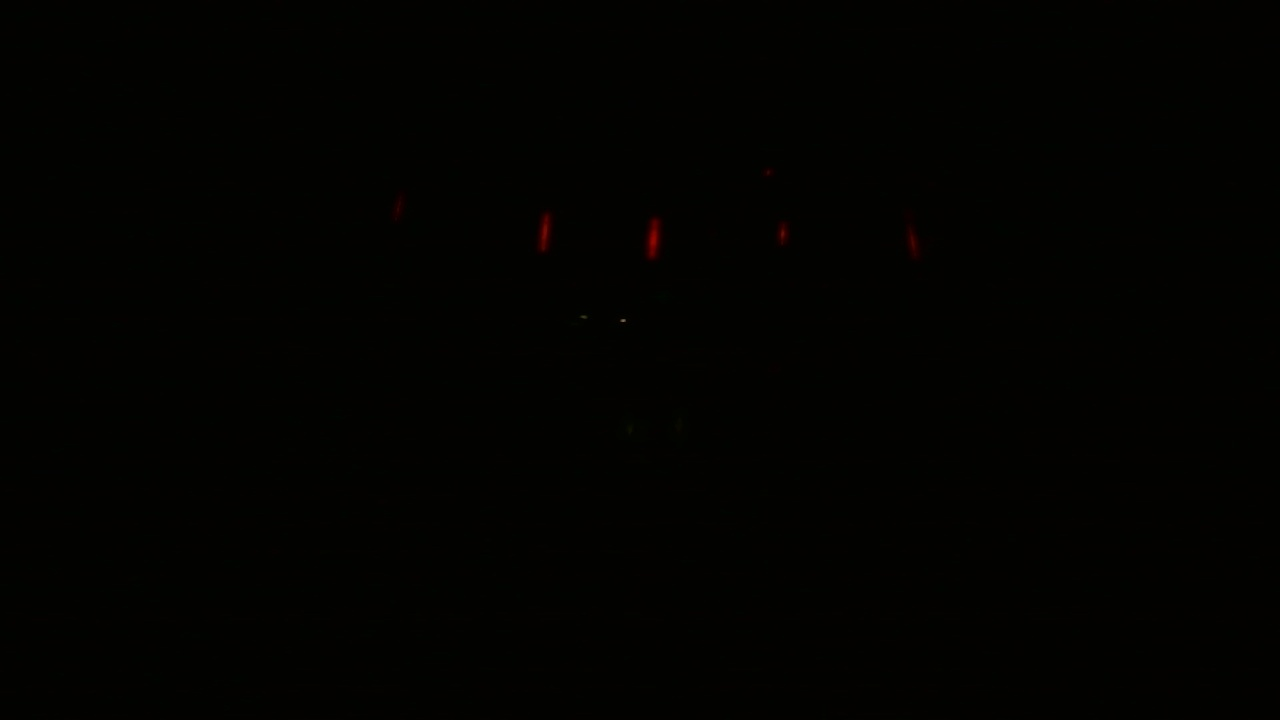pair1: (535, 209, 660, 261)
